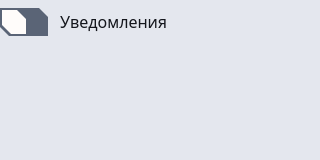
Test: Switch › toggles from a click
What coordinates should you click on to do the following:
click the switch labelled "Уведомления"
I would click on:
 (83, 22)
Its box is [0, 0, 167, 44].
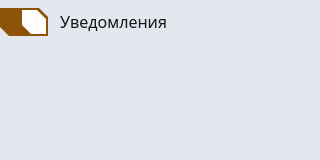
expect the switch labelled "Уведомления" is checked: met, box [0, 0, 167, 44]
